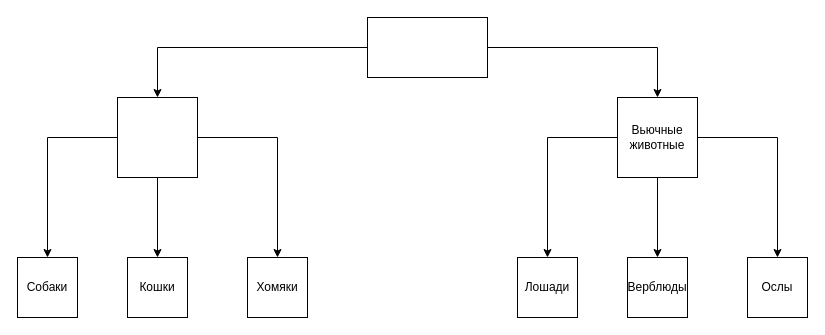
Some shapes in this 825 by 335 pixel diagram are drawn without their labels. Each missing label, with the centre of its shape:
Animals: pixel 427 47
Домашние животные: pixel 157 137
